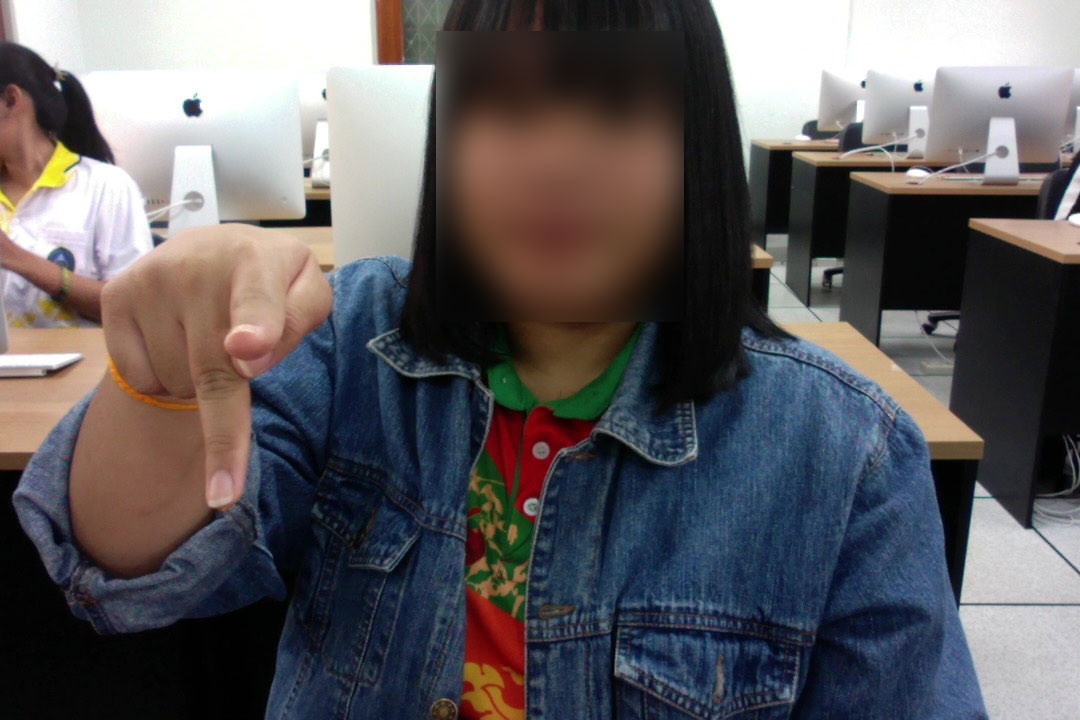por: (89, 206, 342, 524)
